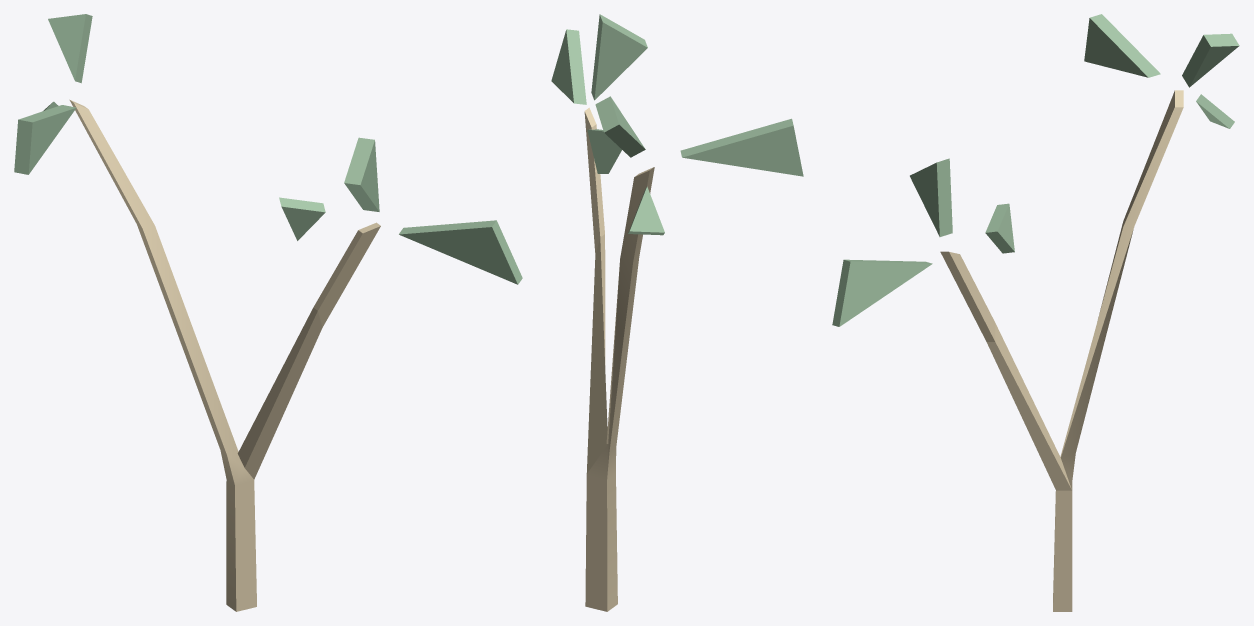
3 views of the same model, side by side, from view 1: azimuth 30°, elevation 25°; view 2: azimuth 150°, elevation 25°; view 3: azimuth 270°, elevation 25° (orthographic). The views are drawn at different scales.
Visible parts, largest first — view 1: Box084, Line019, Line022, Line020, Line021, Line024; view 2: Box084, Line022, Line020, Line019, Line021, Line024, Line023; view 3: Box084, Line019, Line022, Line020, Line021, Line024, Line023.
Part boxes in pixels (x1,y1,x2,y2): Box084: (69, 99, 380, 611); Line019: (399, 220, 522, 284); Line022: (14, 105, 76, 174); Line020: (344, 137, 379, 211); Line021: (48, 14, 92, 83); Line024: (279, 197, 325, 240); Box084: (584, 107, 654, 611); Line022: (680, 118, 803, 176); Line020: (591, 14, 647, 100); Line019: (551, 29, 586, 104); Line021: (595, 96, 645, 157); Line024: (587, 129, 621, 173); Line023: (628, 186, 664, 235); Box084: (940, 90, 1183, 611); Line019: (832, 259, 932, 326); Line022: (1084, 14, 1160, 77); Line020: (910, 158, 952, 236); Line021: (1182, 33, 1239, 87); Line024: (985, 203, 1014, 253); Line023: (1196, 94, 1234, 128).
Size of the model in its own units: 8.35 by 11.89 by 8.22.
